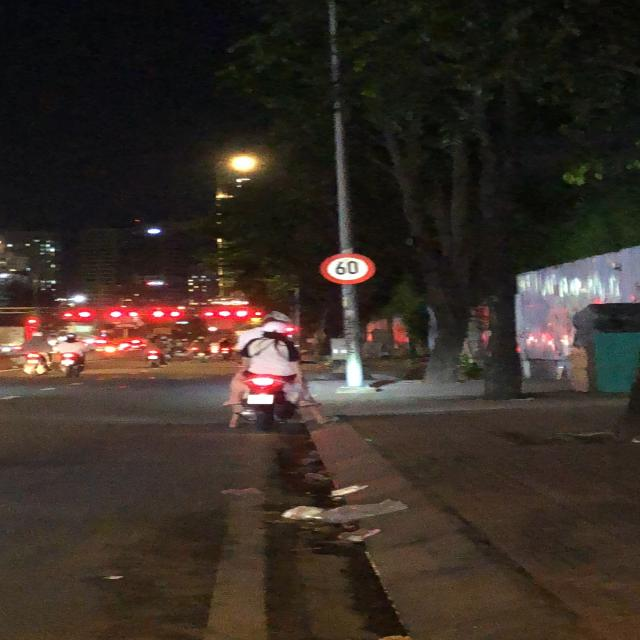Bien bao toc do toi da cho phep: (319, 250, 378, 288)
